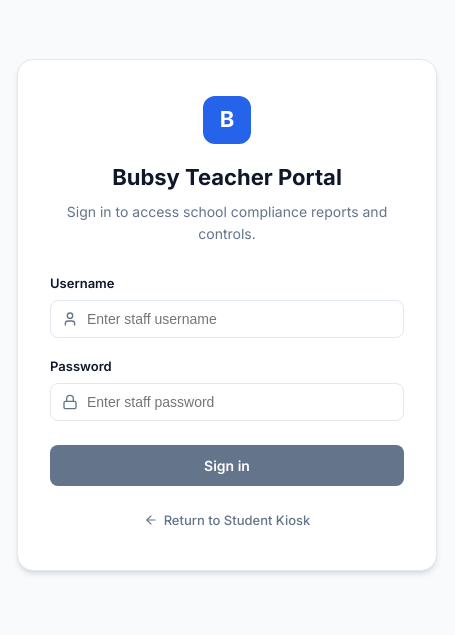
Test: LoginPage Component › displays accessible error alert with role="alert" when credentials fail
Type "wrong_user" into the field labelled "Username" at (227, 319), box 50,300 -> 404,338
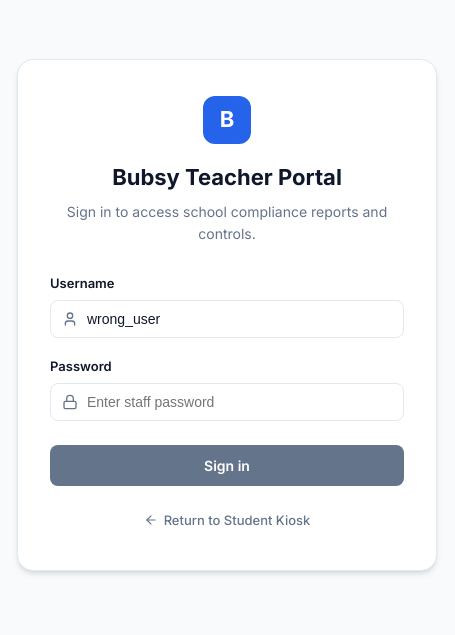
Type "wrong_pass" into the password field labelled "Password" at (227, 402), box 50,383 -> 404,421
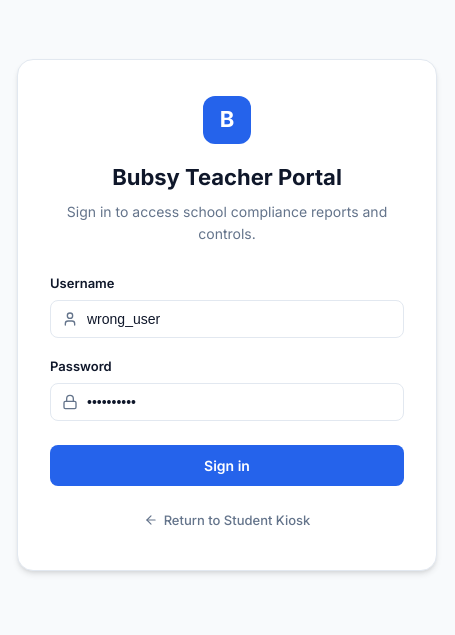
Click the button "Sign in" at (227, 466), box 50,445 -> 404,486
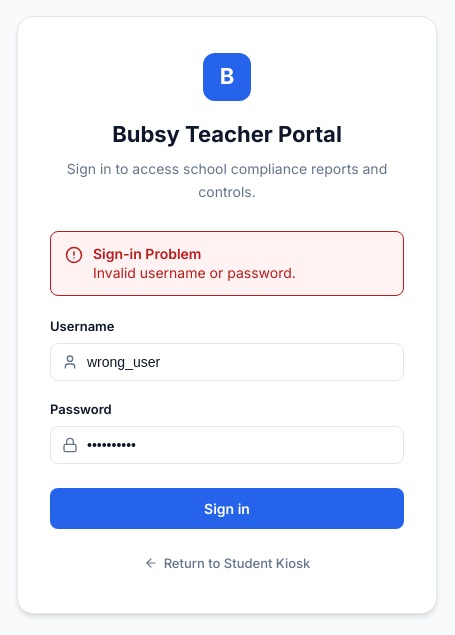
expect the message "Sign-in Problem Invalid username or password." is shown: met, box 50,231 -> 404,296
expect the message shows "Sign-in Problem": met, box 93,245 -> 202,262
expect the message shows "Invalid username or password.": met, box 93,264 -> 296,282
